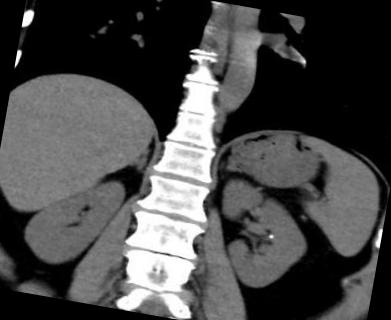Tas_Var: (266, 232, 275, 240)
